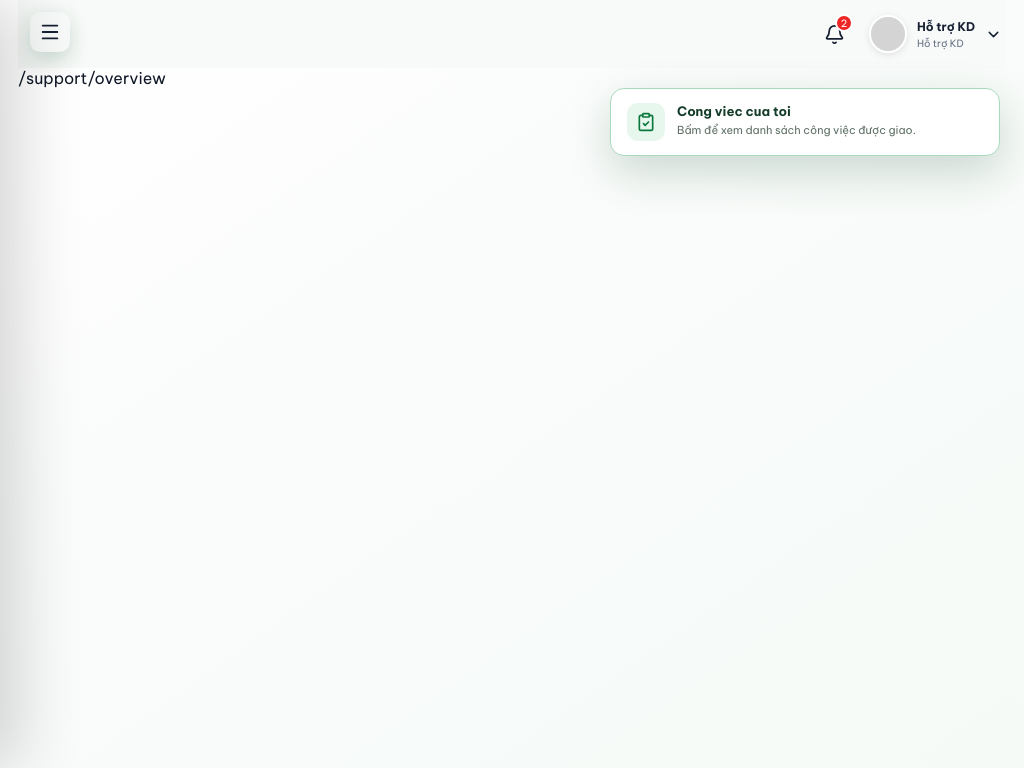
Test: AppShell notifications › shows a support-work notification only to its assigned support employee
The image size is (1024, 768).
What coordinates should you click on to do the following:
click the button named "Xem thông báo"
I would click on:
 (835, 34)
Its box is top-left (815, 14), bottom-right (855, 54).
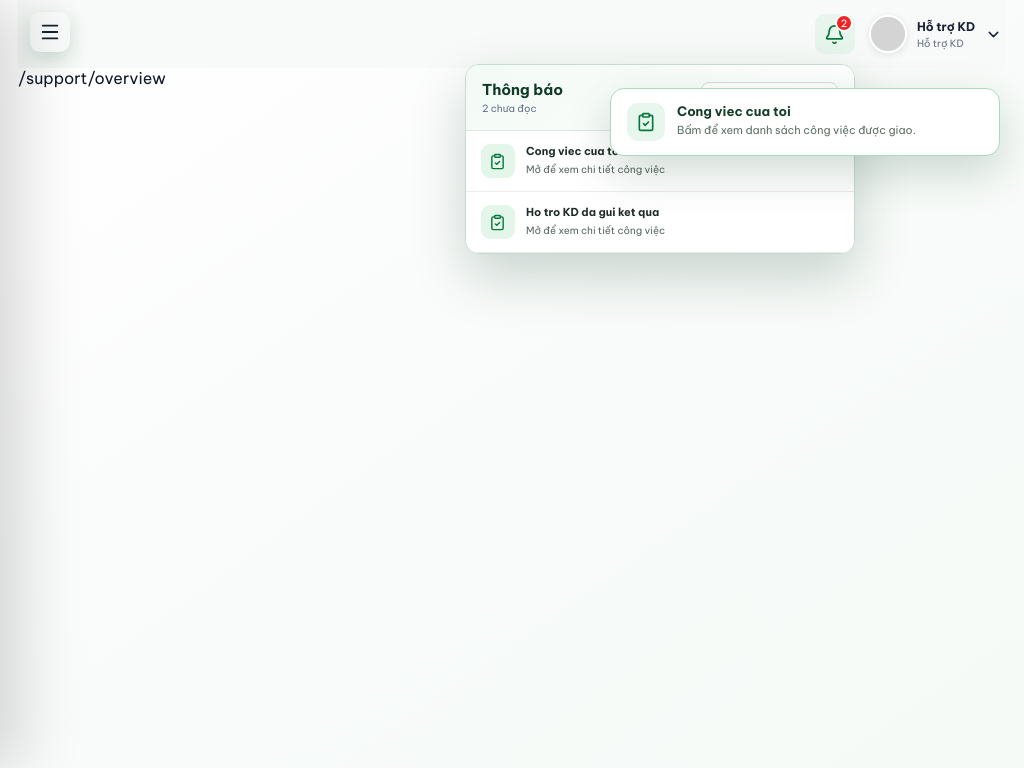
Check: the text "Cong viec cua toi" below "chưa đọc" is shown, box top-left (526, 144), bottom-right (622, 158)
What coordinates should you click on to do the following:
click the button "Cong viec cua toi Mở để xem chi tiết công việc"
I would click on:
 (660, 162)
Its box is top-left (466, 131), bottom-right (854, 192).
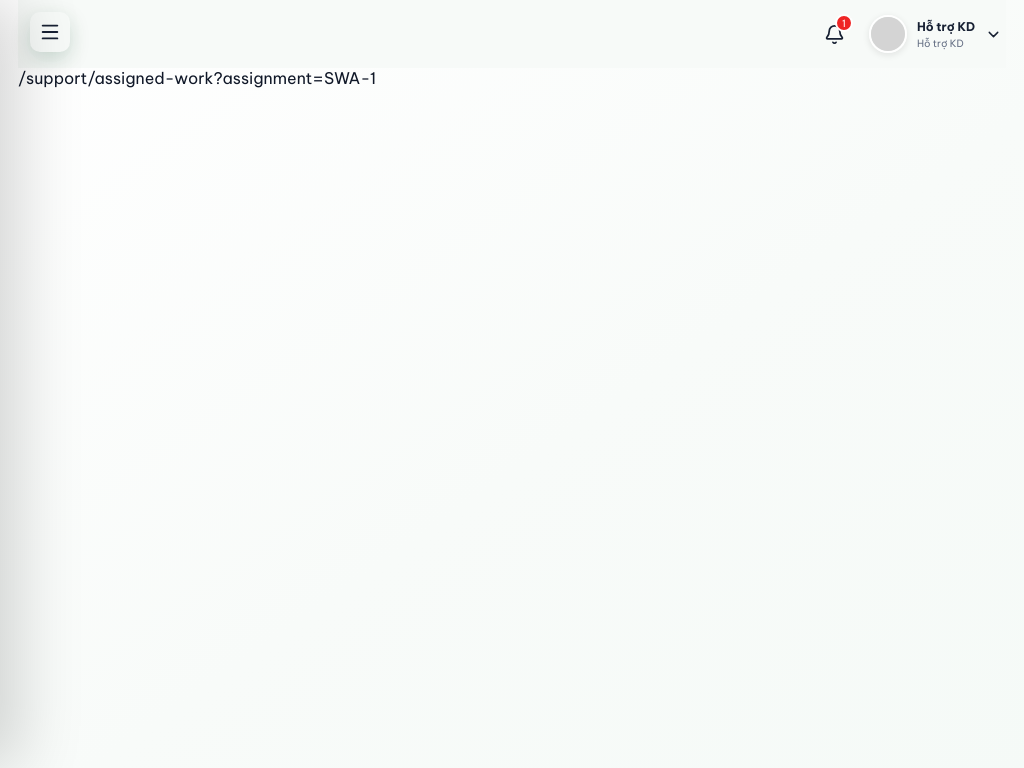
Check: the text with test id "current-route" reads "/support/assigned-work?assignment=SWA-1", box top-left (18, 68), bottom-right (376, 88)
